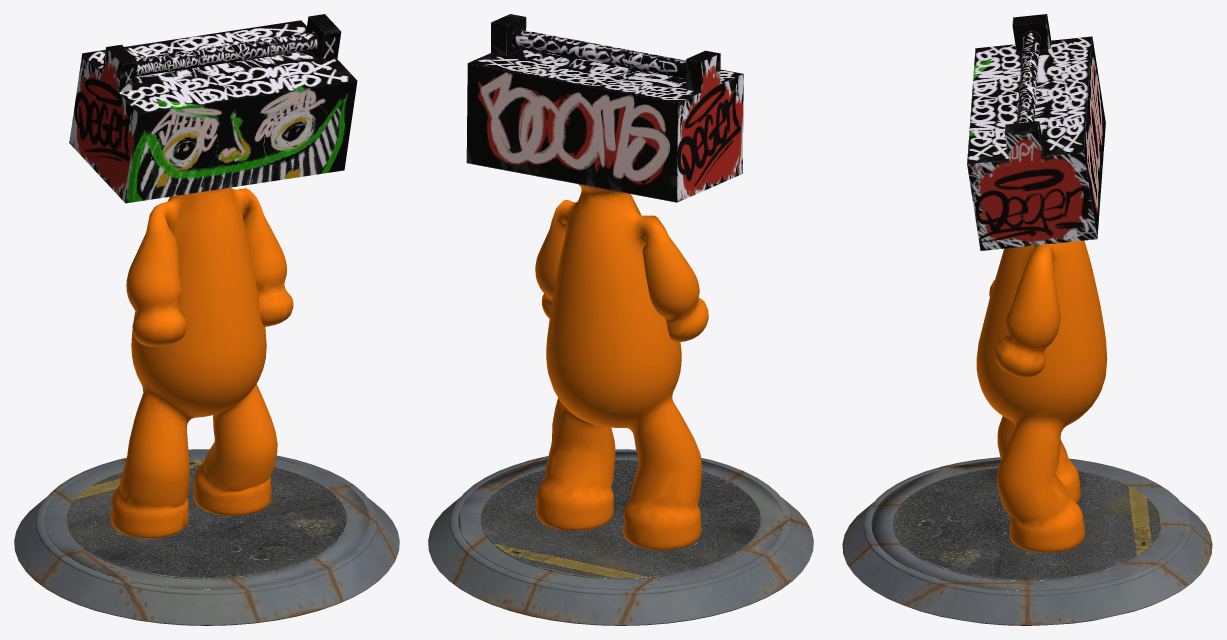
3 renders of one model, left to right at view 1: azimuth 30°, elevation 25°; view 2: azimuth 150°, elevation 25°; view 3: azimuth 270°, elevation 25°, orthographic. The views are drawn at different scales.
Visible parts, largest first — view 1: BBody; view 2: BBody; view 3: BBody.
Boxes of the visible parts, bbox=[...] form: BBody: bbox=[14, 14, 399, 625]; BBody: bbox=[428, 14, 813, 625]; BBody: bbox=[842, 14, 1212, 625].
Bounding box in the file's own units: 1.45 × 2.12 × 1.45.
Materials: 4 (3 with a texture image).
